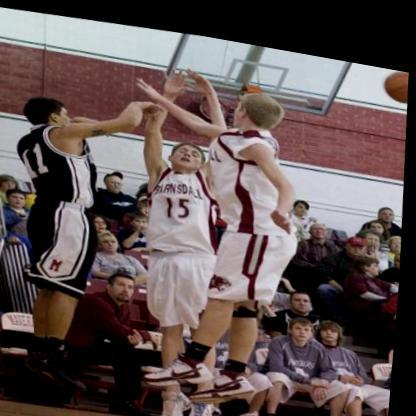basketball: (382, 54, 409, 91)
